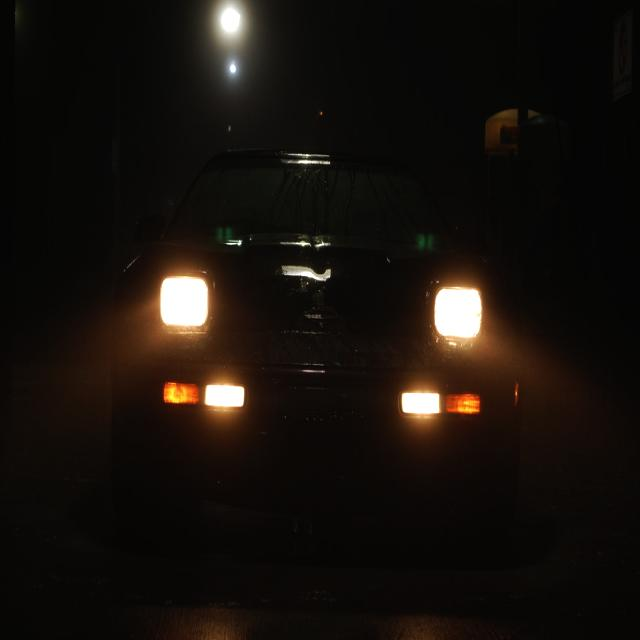Car: (109, 150, 522, 583)
